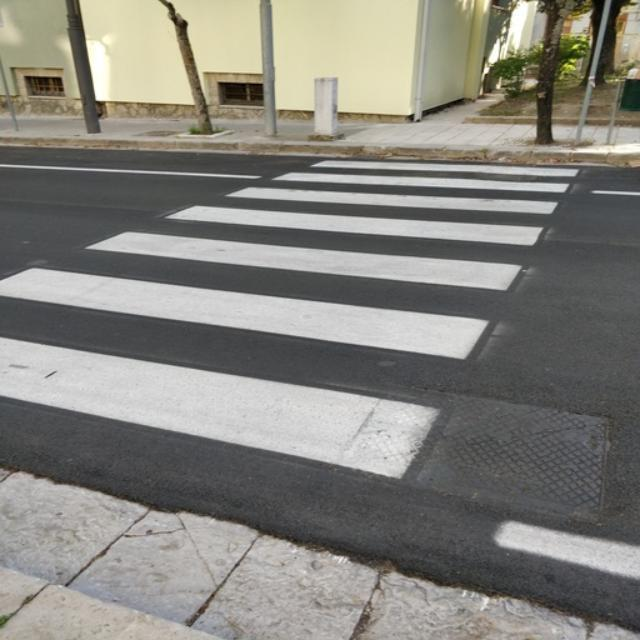sidewalk: (0, 144, 588, 564)
